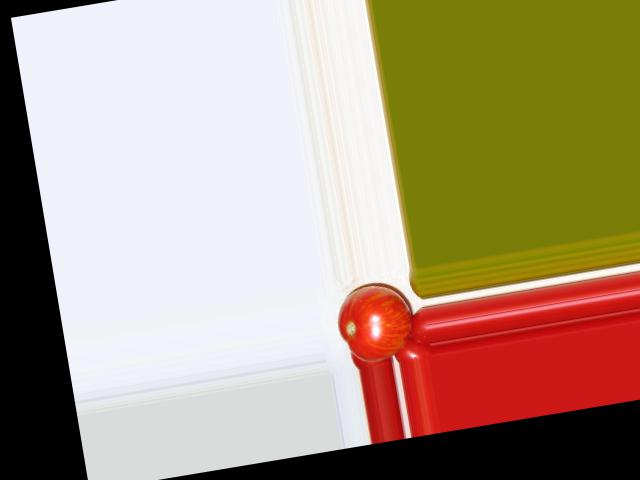tomato: (332, 279, 418, 366)
